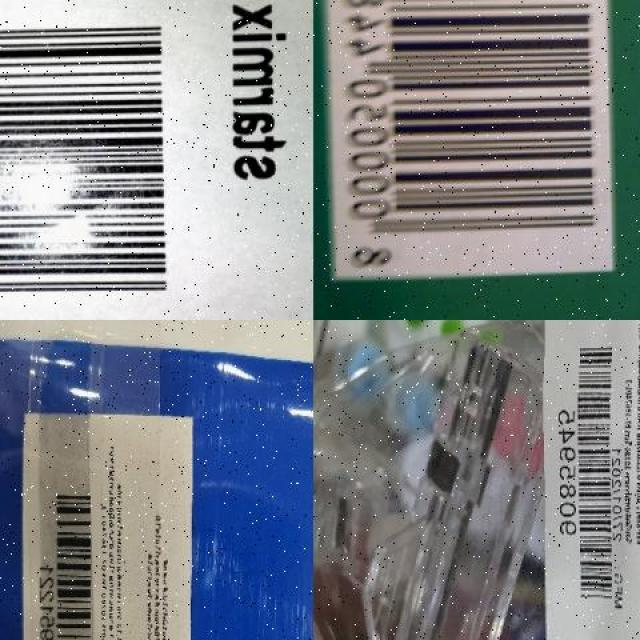Barcode: (319, 0, 625, 284), (0, 4, 193, 320), (555, 336, 616, 608), (39, 478, 93, 640)
